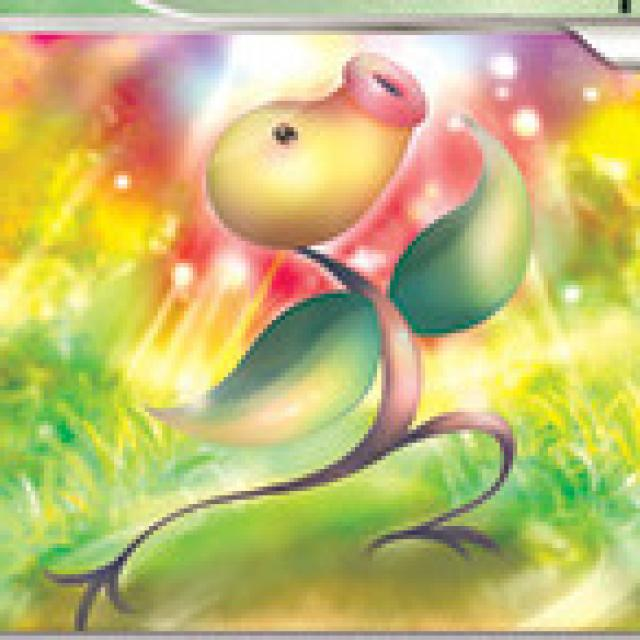Bellsprout: (193, 49, 544, 572)
